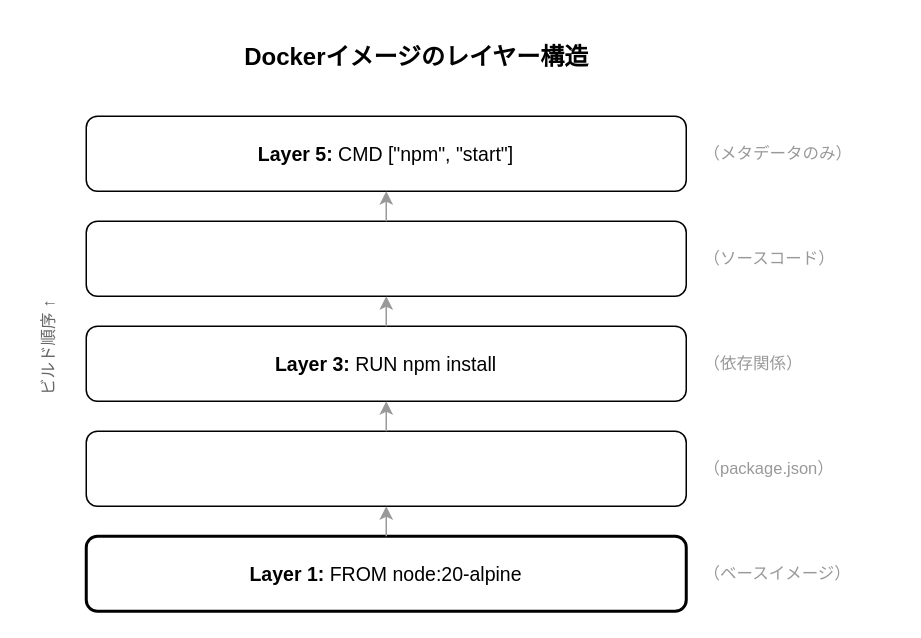
This 921x638 diagram has some shape labels left out. The shapes that lost their labels are listed below. From the top down, each one's centre as x and y in pixels, then its label:
[385,258]: Layer 4: COPY . /app
[385,468]: Layer 2: COPY package*.json ./
